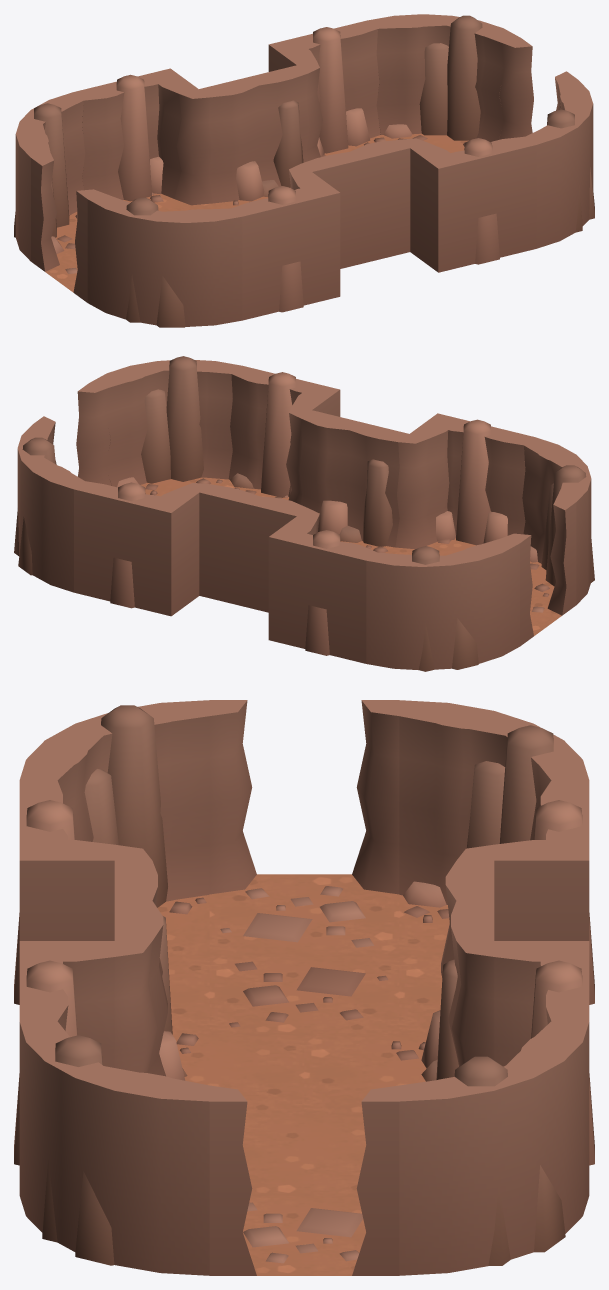
Rendered from room-wide-variation.obj.
The picture shows the model from 3 angles, top to bottom: view 1: azimuth 30°, elevation 25°; view 2: azimuth 150°, elevation 25°; view 3: azimuth 270°, elevation 25°; orthographic projection. The views are drawn at different scales.
Parts seen in each view (by area): view 1: room-wide-variation; view 2: room-wide-variation; view 3: room-wide-variation.
Boxes of the visible parts, left/top/right/bottom form: room-wide-variation: left=14, top=14, right=594, bottom=327; room-wide-variation: left=14, top=356, right=594, bottom=671; room-wide-variation: left=14, top=700, right=594, bottom=1275.
Size of the model in its own units: 20 by 4.4 by 12.23.
1 material, 1 textured.
